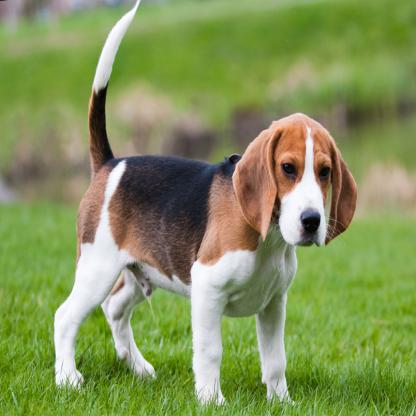Bigl: (50, 1, 358, 406)
